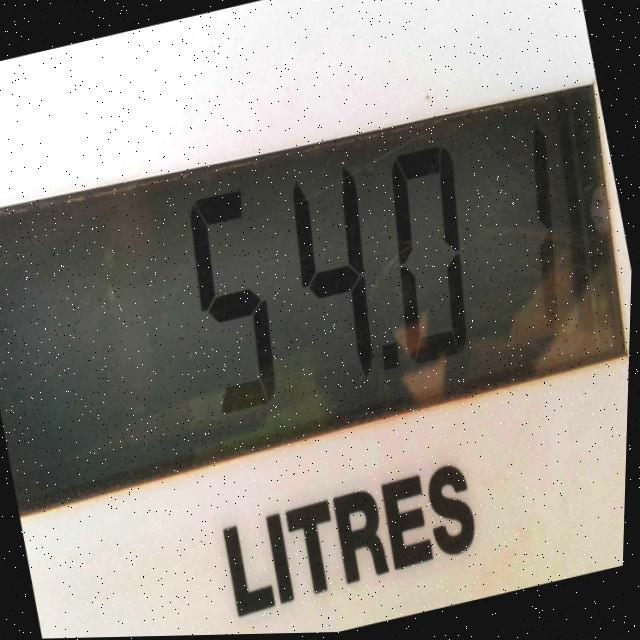.: (381, 345, 404, 376)
0: (365, 144, 504, 375)
1: (503, 124, 590, 333)
4: (276, 165, 395, 397)
5: (173, 183, 302, 429)
